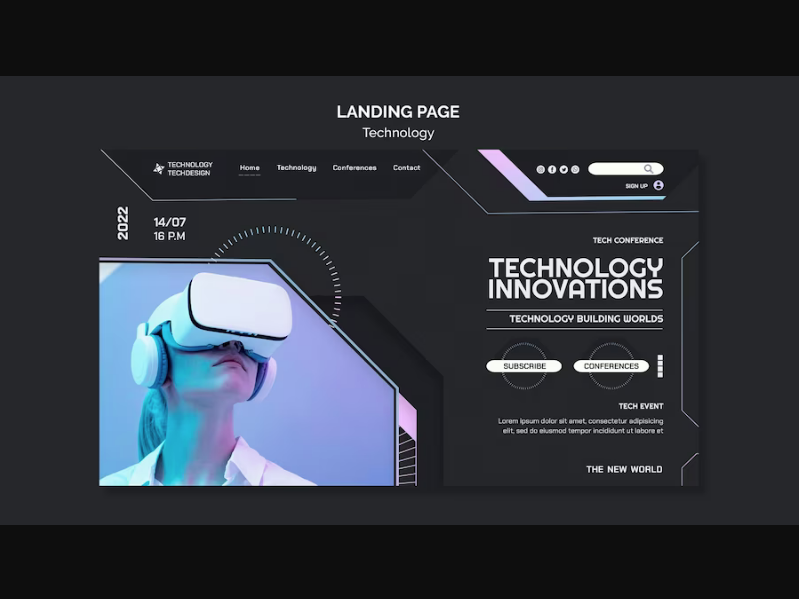menu: (103, 150, 690, 215)
